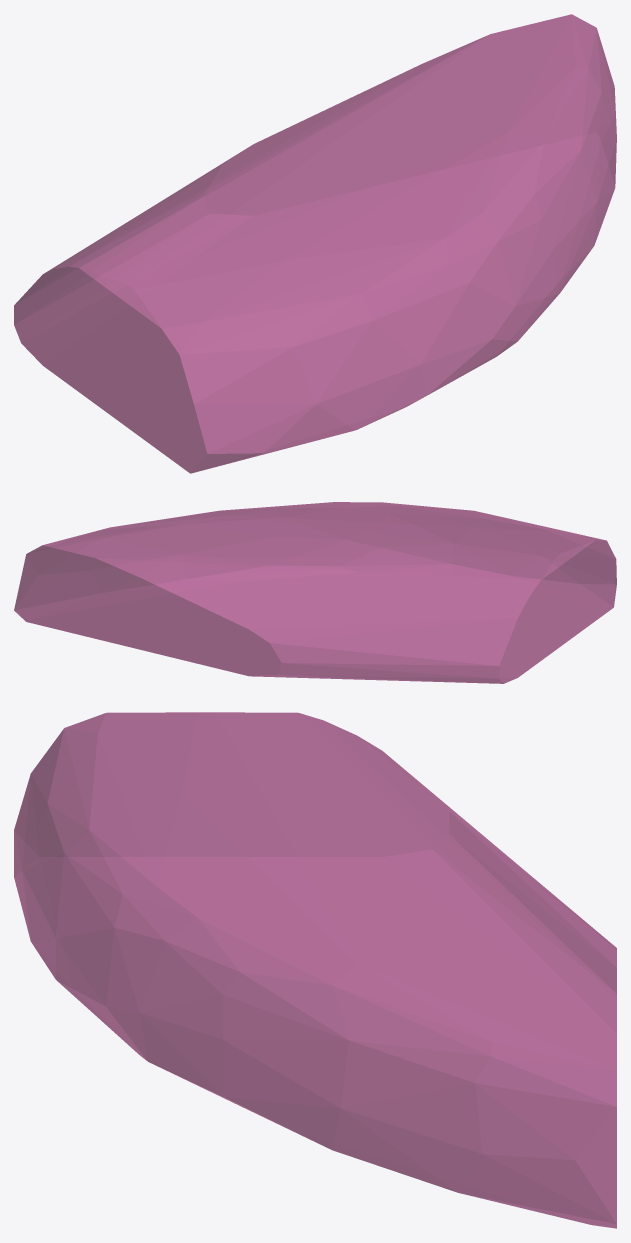
3 renders of one model, top to bottom at view 1: azimuth 30°, elevation 25°; view 2: azimuth 150°, elevation 25°; view 3: azimuth 270°, elevation 25°, orthographic. The views are drawn at different scales.
Parts seen in each view (by area): view 1: Shape_IndexedFaceSet.007_Shape_IndexedFaceSet.16891; view 2: Shape_IndexedFaceSet.007_Shape_IndexedFaceSet.16891; view 3: Shape_IndexedFaceSet.007_Shape_IndexedFaceSet.16891.
Boxes of the visible parts, x1,y1,x2,y2 form: Shape_IndexedFaceSet.007_Shape_IndexedFaceSet.16891: [14, 14, 616, 473]; Shape_IndexedFaceSet.007_Shape_IndexedFaceSet.16891: [14, 502, 616, 683]; Shape_IndexedFaceSet.007_Shape_IndexedFaceSet.16891: [14, 712, 616, 1228].
Bounding box in the file's own units: 0.2906 × 0.0538 × 0.1937.
